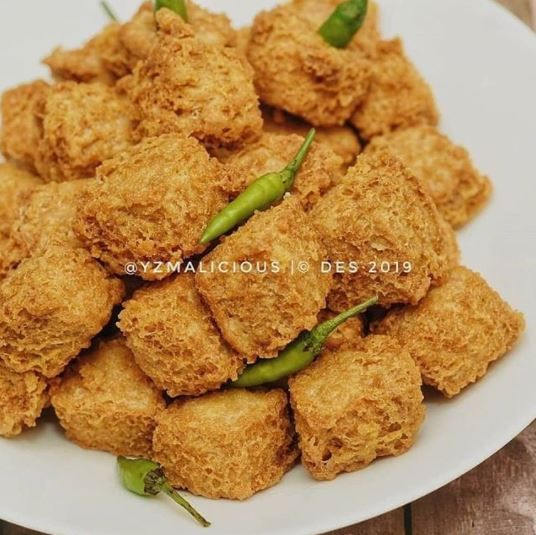Tahu: (273, 345, 423, 483), (223, 208, 332, 349), (101, 148, 212, 271), (337, 155, 430, 290), (420, 269, 520, 380), (188, 379, 306, 472), (147, 259, 228, 390)
